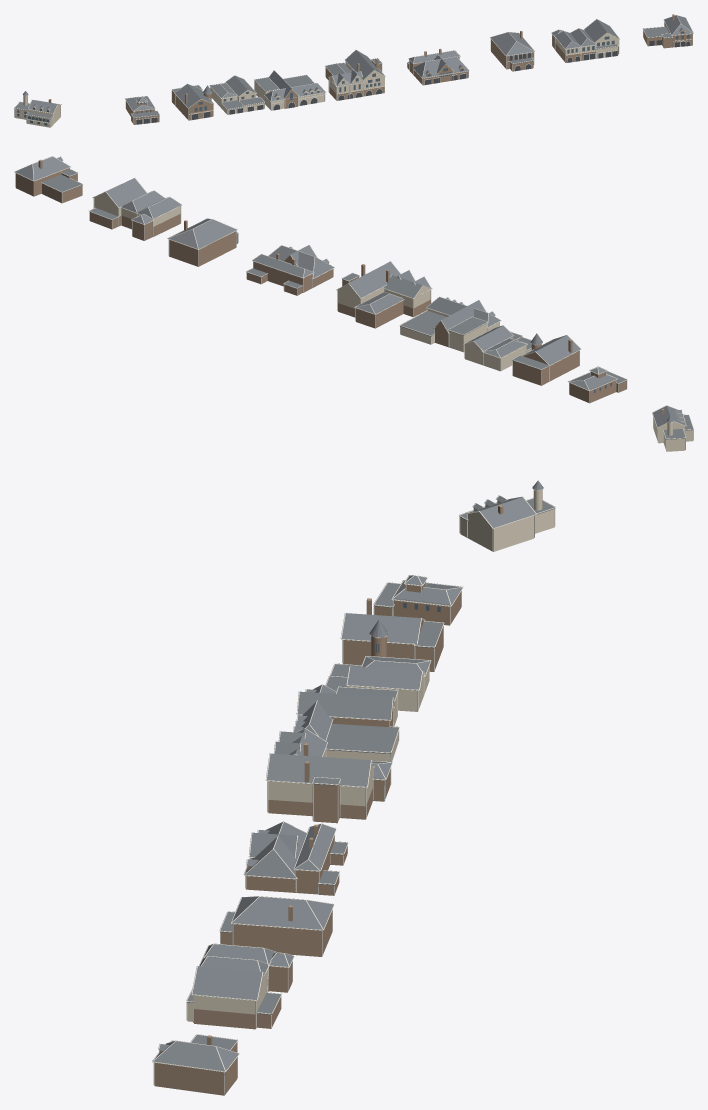
The model's file is phl-boathouse-row.glb.
3 renders of one model, top to bottom at view 1: azimuth 30°, elevation 25°; view 2: azimuth 150°, elevation 25°; view 3: azimuth 270°, elevation 25°, orthographic. The views are drawn at different scales.
Visible parts, largest first — view 1: Boathouse Row; view 2: Boathouse Row; view 3: Boathouse Row.
Boxes of the visible parts, x1=… form: Boathouse Row: x1=14, y1=14, x2=693, y2=127; Boathouse Row: x1=14, y1=156, x2=693, y2=451; Boathouse Row: x1=152, y1=480, x2=555, y2=1095.
Bounding box in the file's own units: 351 × 15 × 103.
